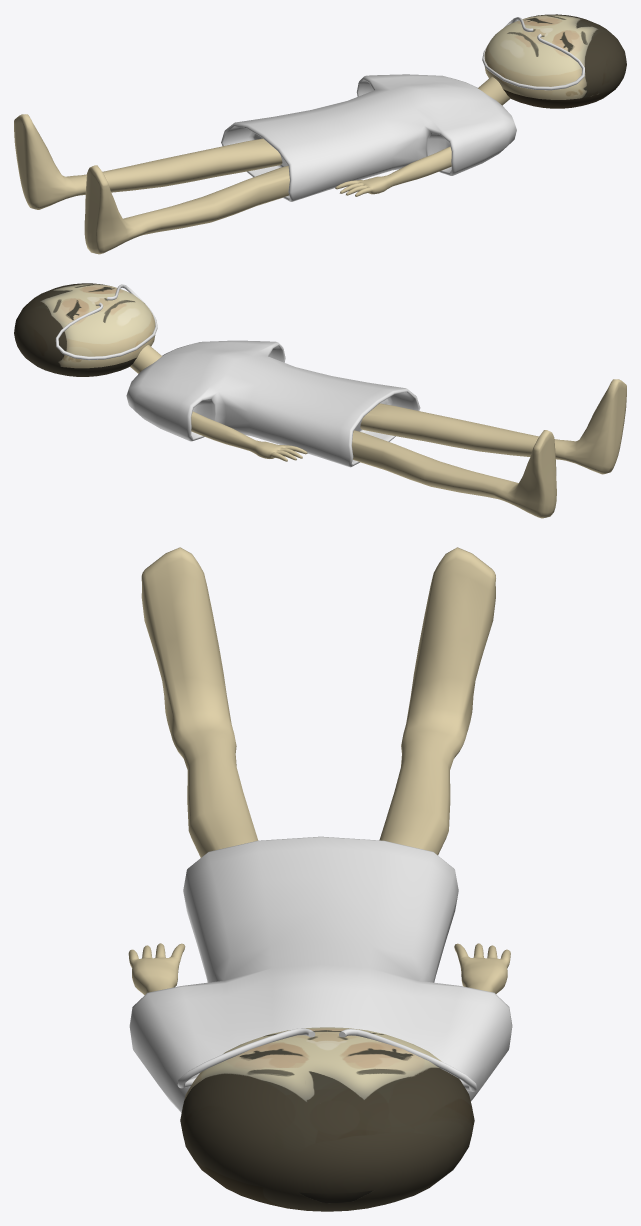
Rendered from scary_child 1.FBX.
3 renders of one model, top to bottom at view 1: azimuth 30°, elevation 25°; view 2: azimuth 150°, elevation 25°; view 3: azimuth 270°, elevation 25°, orthographic. The views are drawn at different scales.
Visible parts, largest first — view 1: Sphere004, Plane005, Line002; view 2: Sphere004, Plane005, Line002; view 3: Sphere004, Plane005, Line002.
Boxes of the visible parts, left/top/right/bottom form: Sphere004: left=14, top=14, right=626, bottom=254; Plane005: left=221, top=74, right=516, bottom=201; Line002: left=482, top=17, right=584, bottom=90; Sphere004: left=14, top=283, right=626, bottom=518; Plane005: left=126, top=340, right=420, bottom=467; Line002: left=55, top=284, right=157, bottom=360; Sphere004: left=128, top=547, right=510, bottom=1211; Plane005: left=129, top=836, right=512, bottom=1112; Line002: left=177, top=1028, right=476, bottom=1091.
Size of the model in its own units: 625 by 103 by 186.
